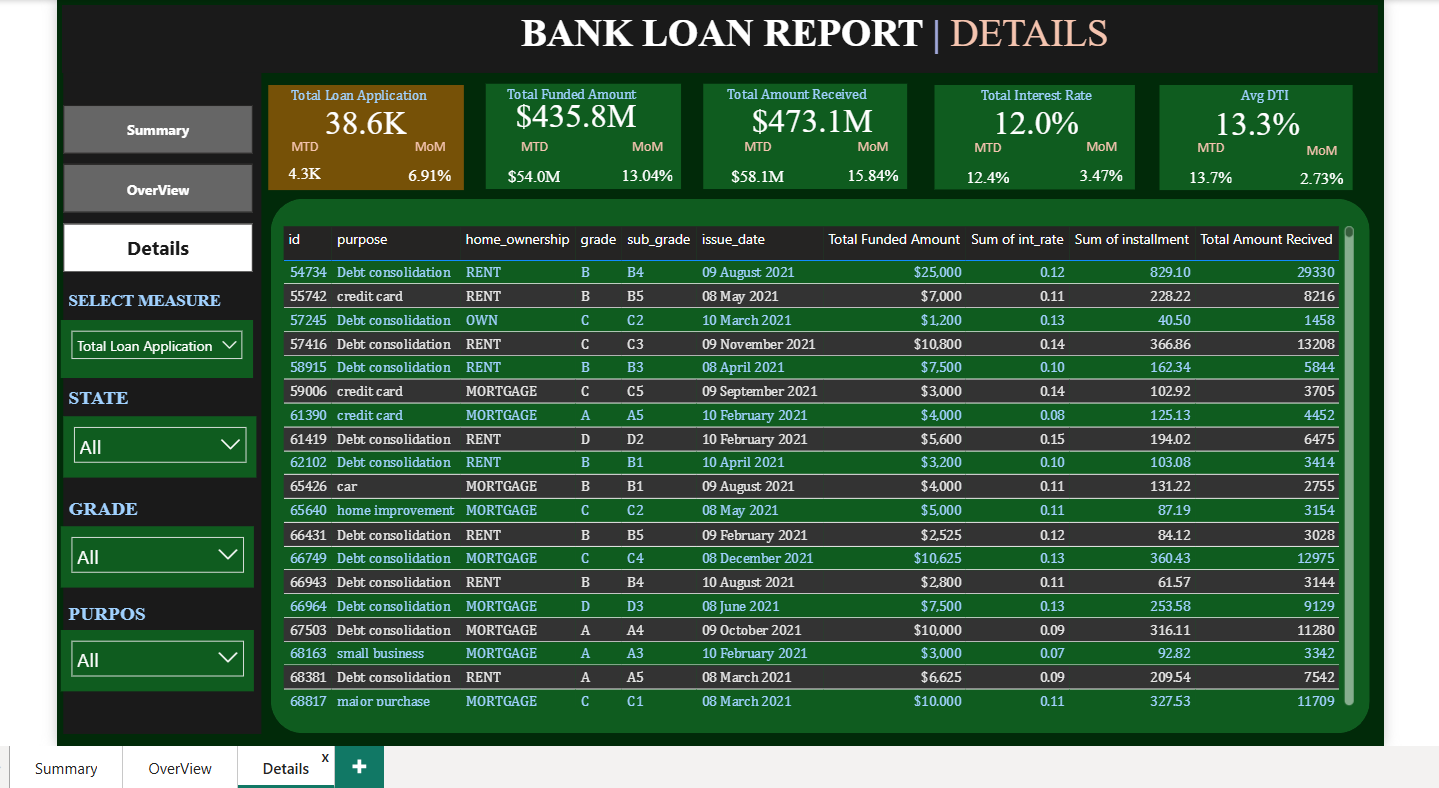

The dashboard page shown, as its layout file describes it:
{"tool":"powerbi","page":{"name":"Details","canvas":[1280,720],"ordinal":2},"visuals":[{"type":"shape","box":[205.8,192.1,1060.7,516],"z":0},{"type":"shape","box":[5.5,70,191.4,638.6],"z":1000},{"type":"shape","box":[4.3,4.3,1270,65.7],"z":2000},{"type":"textbox","box":[412.9,4.3,637.1,75.7],"z":3000},{"type":"shape","box":[412.9,79.8,188.5,102],"z":3000,"group":"g2"},{"type":"shape","box":[624.1,79.8,196.9,102],"z":3000,"group":"g3"},{"type":"shape","box":[204.1,81.1,188.8,101.4],"z":3000,"group":"g1"},{"type":"shape","box":[847.7,81.1,193.4,100.8],"z":3000,"group":"g4"},{"type":"cardVisual","fields":{"Data":["banking_loan banking_loan.Total Funded Amount"]},"box":[402.5,76.5,197,67.6],"z":4000,"group":"g2"},{"type":"group","id":"g1","title":"Group 1","box":[193.5,76.8,227.8,119.4],"z":4000},{"type":"cardVisual","fields":{"Data":["banking_loan banking_loan.Total Loan Application"]},"box":[219.2,81.1,160.1,70],"z":4000,"group":"g1"},{"type":"shape","box":[1063.8,81.1,186.6,101.4],"z":4000,"group":"g5"},{"type":"cardVisual","fields":{"Data":["Date Table.Total Amount Recived"]},"box":[630.4,81.7,196.7,67.6],"z":4000,"group":"g3"},{"type":"cardVisual","fields":{"Data":["banking_loan banking_loan.Average Interest Rate"]},"box":[847.3,83.7,196.2,66.8],"z":4000,"group":"g4"},{"type":"group","id":"g2","title":"Group 1","box":[402.5,75.5,227.8,123.5],"z":5000},{"type":"textbox","box":[429.5,75.5,158.3,34.5],"z":5000,"group":"g2"},{"type":"textbox","box":[641.4,75.5,165.4,34.5],"z":5000,"group":"g3"},{"type":"textbox","box":[220.7,76.8,158.6,34.3],"z":5000,"group":"g1"},{"type":"textbox","box":[864.7,76.8,162.5,34.1],"z":5000,"group":"g4"},{"type":"group","id":"g3","title":"Group 1","box":[616.5,75.5,234.6,123.5],"z":6000},{"type":"cardVisual","fields":{"Data":["banking_loan banking_loan.Avg DTI"]},"box":[1063.5,83.7,189.3,67.2],"z":6000,"group":"g5"},{"type":"cardVisual","title":"MTD","fields":{"Data":["banking_loan banking_loan.MTD Loan Application"]},"box":[193.5,132.5,92.1,60],"z":6000,"group":"g1"},{"type":"cardVisual","title":"MTD","fields":{"Data":["banking_loan banking_loan.MTD Funded Amount"]},"box":[402.5,132.8,115.9,66.2],"z":6000,"group":"g2"},{"type":"cardVisual","title":"MTD","fields":{"Data":["banking_loan banking_loan.MTD Total Amount Recived"]},"box":[616.5,132.8,119.5,66.2],"z":6000,"group":"g3"},{"type":"cardVisual","title":"MTD","fields":{"Data":["banking_loan banking_loan.MTD Avg Int Ratet"]},"box":[840.2,133.4,117.4,65.5],"z":6000,"group":"g4"},{"type":"group","id":"g4","title":"Group 1","box":[840.2,76.8,230.5,122.1],"z":7000},{"type":"cardVisual","title":"MoM","fields":{"Data":["banking_loan banking_loan.MoM Total Funded Amount"]},"box":[508.6,131.8,121.7,63.5],"z":7000,"group":"g2"},{"type":"cardVisual","title":"MoM","fields":{"Data":["banking_loan banking_loan.MoM Total Amount Recived"]},"box":[724.1,131.8,127.1,63.5],"z":7000,"group":"g3"},{"type":"cardVisual","title":"MoM","fields":{"Data":["banking_loan banking_loan.MoM Avg Int Rate"]},"box":[945.9,132.5,124.9,62.7],"z":7000,"group":"g4"},{"type":"cardVisual","title":"MoM","fields":{"Data":["banking_loan banking_loan.MoM Loan Application"]},"box":[300,132.8,121.9,63.1],"z":7000,"group":"g1"},{"type":"group","id":"g5","title":"Group 2","box":[1056.6,76.8,223.7,123.5],"z":8000},{"type":"textbox","box":[1080.2,76.8,156.7,34.3],"z":8000,"group":"g5"},{"type":"slicer","fields":{"Values":["banking_loan banking_loan.grade"]},"box":[4.1,507.7,186.6,59],"z":9000},{"type":"cardVisual","title":"MTD","fields":{"Data":["banking_loan banking_loan.MTD Avg DTI"]},"box":[1056.6,133.8,113.3,65.9],"z":10000,"group":"g5"},{"type":"slicer","fields":{"Values":["banking_loan banking_loan.purpose"]},"box":[4.1,607.9,186.6,59],"z":10000},{"type":"cardVisual","title":"MoM","fields":{"Data":["banking_loan banking_loan.MoM Avg DIT"]},"box":[1159.8,135.8,120.4,63.1],"z":11000,"group":"g5"},{"type":"textbox","box":[5.5,367.8,126.2,42.5],"z":11000},{"type":"textbox","box":[5.5,576.3,126.2,42.5],"z":12000},{"type":"slicer","fields":{"Values":["banking_loan banking_loan.address_state"]},"box":[5.5,402.1,186.6,59],"z":13000},{"type":"textbox","box":[5.5,474.8,126.2,42.5],"z":14000},{"type":"slicer","fields":{"Values":["Select Measure.Select Measure"]},"box":[4.1,308.7,185.2,56.3],"z":15000},{"type":"textbox","box":[5.5,275.8,196.2,42.5],"z":16000},{"type":"tableEx","fields":{"Values":["banking_loan banking_loan.id","banking_loan banking_loan.purpose","banking_loan banking_loan.home_ownership","banking_loan banking_loan.grade","banking_loan banking_loan.sub_grade","banking_loan banking_loan.issue_date","banking_loan banking_loan.Total Funded Amount","Sum(banking_loan banking_loan.int_rate)","Sum(banking_loan banking_loan.installment)","banking_loan banking_loan.Total Amount Recived"]},"box":[212.7,214.1,1044.3,472],"z":17000},{"type":"pageNavigator","box":[5.5,101.5,183.9,163.3],"z":18000}]}

Visuals, with their boxes on the page's 1280x720 design canvas (x1, y1, x2, y2). These are canvas units, not pixel positions in the 1439x788 screenshot, which may show the page scaled, cropped or inside an application window:
shape: x1=206, y1=192, x2=1266, y2=708
shape: x1=6, y1=70, x2=197, y2=709
shape: x1=4, y1=4, x2=1274, y2=70
textbox: x1=413, y1=4, x2=1050, y2=80
shape: x1=413, y1=80, x2=601, y2=182
shape: x1=624, y1=80, x2=821, y2=182
shape: x1=204, y1=81, x2=393, y2=182
shape: x1=848, y1=81, x2=1041, y2=182
cardVisual - banking_loan banking_loan.Total Funded Amount: x1=402, y1=76, x2=600, y2=144
"Group 1" group: x1=194, y1=77, x2=421, y2=196
cardVisual - banking_loan banking_loan.Total Loan Application: x1=219, y1=81, x2=379, y2=151
shape: x1=1064, y1=81, x2=1250, y2=182
cardVisual - Date Table.Total Amount Recived: x1=630, y1=82, x2=827, y2=149
cardVisual - banking_loan banking_loan.Average Interest Rate: x1=847, y1=84, x2=1044, y2=150
"Group 1" group: x1=402, y1=76, x2=630, y2=199
textbox: x1=430, y1=76, x2=588, y2=110
textbox: x1=641, y1=76, x2=807, y2=110
textbox: x1=221, y1=77, x2=379, y2=111
textbox: x1=865, y1=77, x2=1027, y2=111
"Group 1" group: x1=616, y1=76, x2=851, y2=199
cardVisual - banking_loan banking_loan.Avg DTI: x1=1064, y1=84, x2=1253, y2=151
"MTD" cardVisual: x1=194, y1=132, x2=286, y2=192
"MTD" cardVisual: x1=402, y1=133, x2=518, y2=199
"MTD" cardVisual: x1=616, y1=133, x2=736, y2=199
"MTD" cardVisual: x1=840, y1=133, x2=958, y2=199
"Group 1" group: x1=840, y1=77, x2=1071, y2=199
"MoM" cardVisual: x1=509, y1=132, x2=630, y2=195
"MoM" cardVisual: x1=724, y1=132, x2=851, y2=195
"MoM" cardVisual: x1=946, y1=132, x2=1071, y2=195
"MoM" cardVisual: x1=300, y1=133, x2=422, y2=196
"Group 2" group: x1=1057, y1=77, x2=1280, y2=200
textbox: x1=1080, y1=77, x2=1237, y2=111
slicer - banking_loan banking_loan.grade: x1=4, y1=508, x2=191, y2=567
"MTD" cardVisual: x1=1057, y1=134, x2=1170, y2=200
slicer - banking_loan banking_loan.purpose: x1=4, y1=608, x2=191, y2=667
"MoM" cardVisual: x1=1160, y1=136, x2=1280, y2=199
textbox: x1=6, y1=368, x2=132, y2=410
textbox: x1=6, y1=576, x2=132, y2=619
slicer - banking_loan banking_loan.address_state: x1=6, y1=402, x2=192, y2=461
textbox: x1=6, y1=475, x2=132, y2=517
slicer - Select Measure.Select Measure: x1=4, y1=309, x2=189, y2=365
textbox: x1=6, y1=276, x2=202, y2=318
tableEx - banking_loan banking_loan.id x banking_loan banking_loan.purpose: x1=213, y1=214, x2=1257, y2=686
pageNavigator: x1=6, y1=102, x2=189, y2=265
